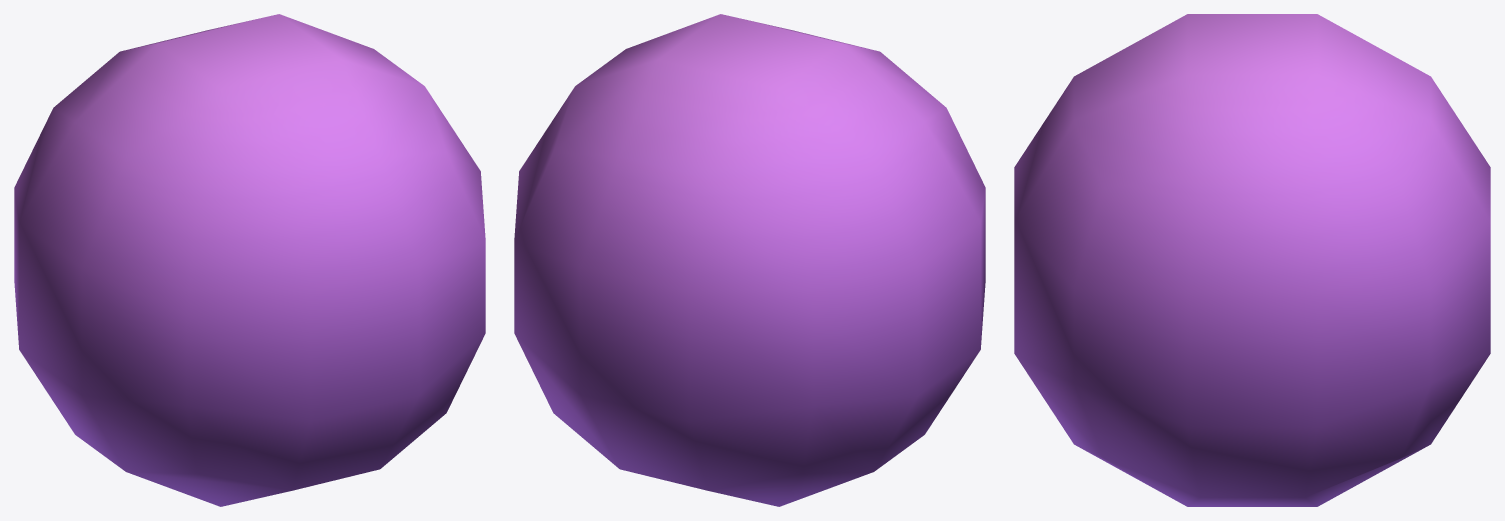
File: cannonball.fbx
The picture shows the model from 3 angles, left to right: view 1: azimuth 30°, elevation 25°; view 2: azimuth 150°, elevation 25°; view 3: azimuth 270°, elevation 25°; orthographic projection. The views are drawn at different scales.
Visible parts, largest first — view 1: cannonball; view 2: cannonball; view 3: cannonball.
Boxes of the visible parts, x1,y1,x2,y2 form: cannonball: (14, 14, 485, 506); cannonball: (514, 14, 985, 506); cannonball: (1014, 14, 1490, 506).
Bounding box in the file's own units: 346 × 346 × 346.
